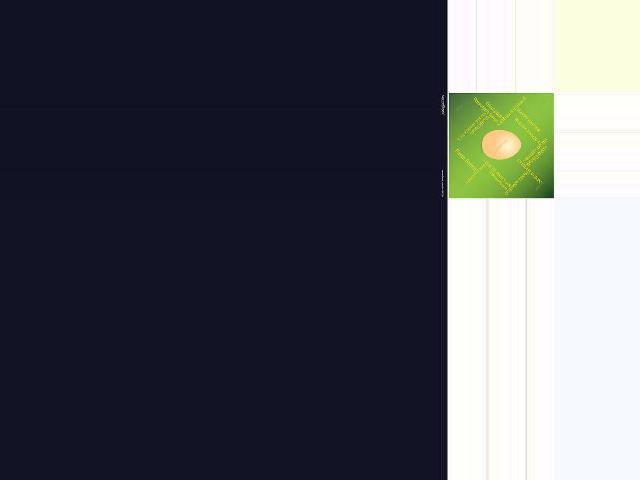egg: (482, 130, 520, 160)
